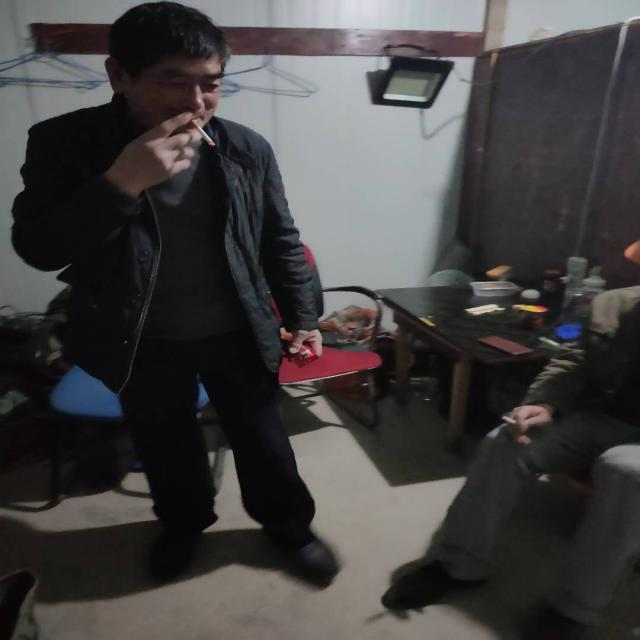smoke: (185, 118, 226, 156)
